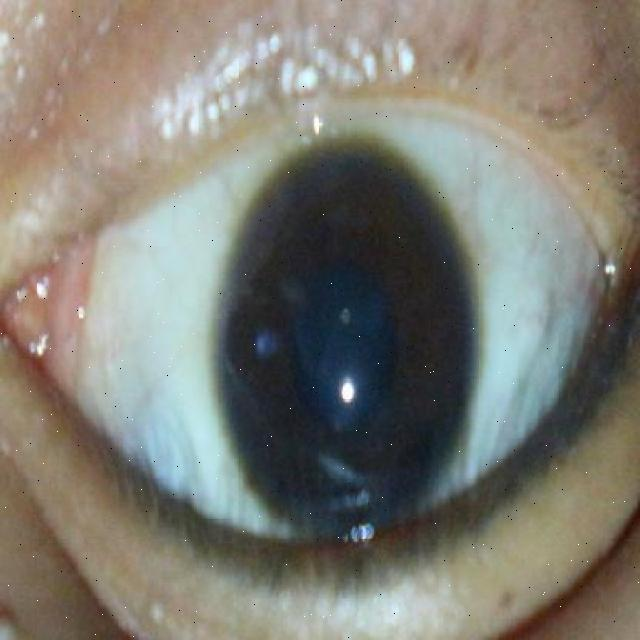Normal: (215, 145, 474, 536)
